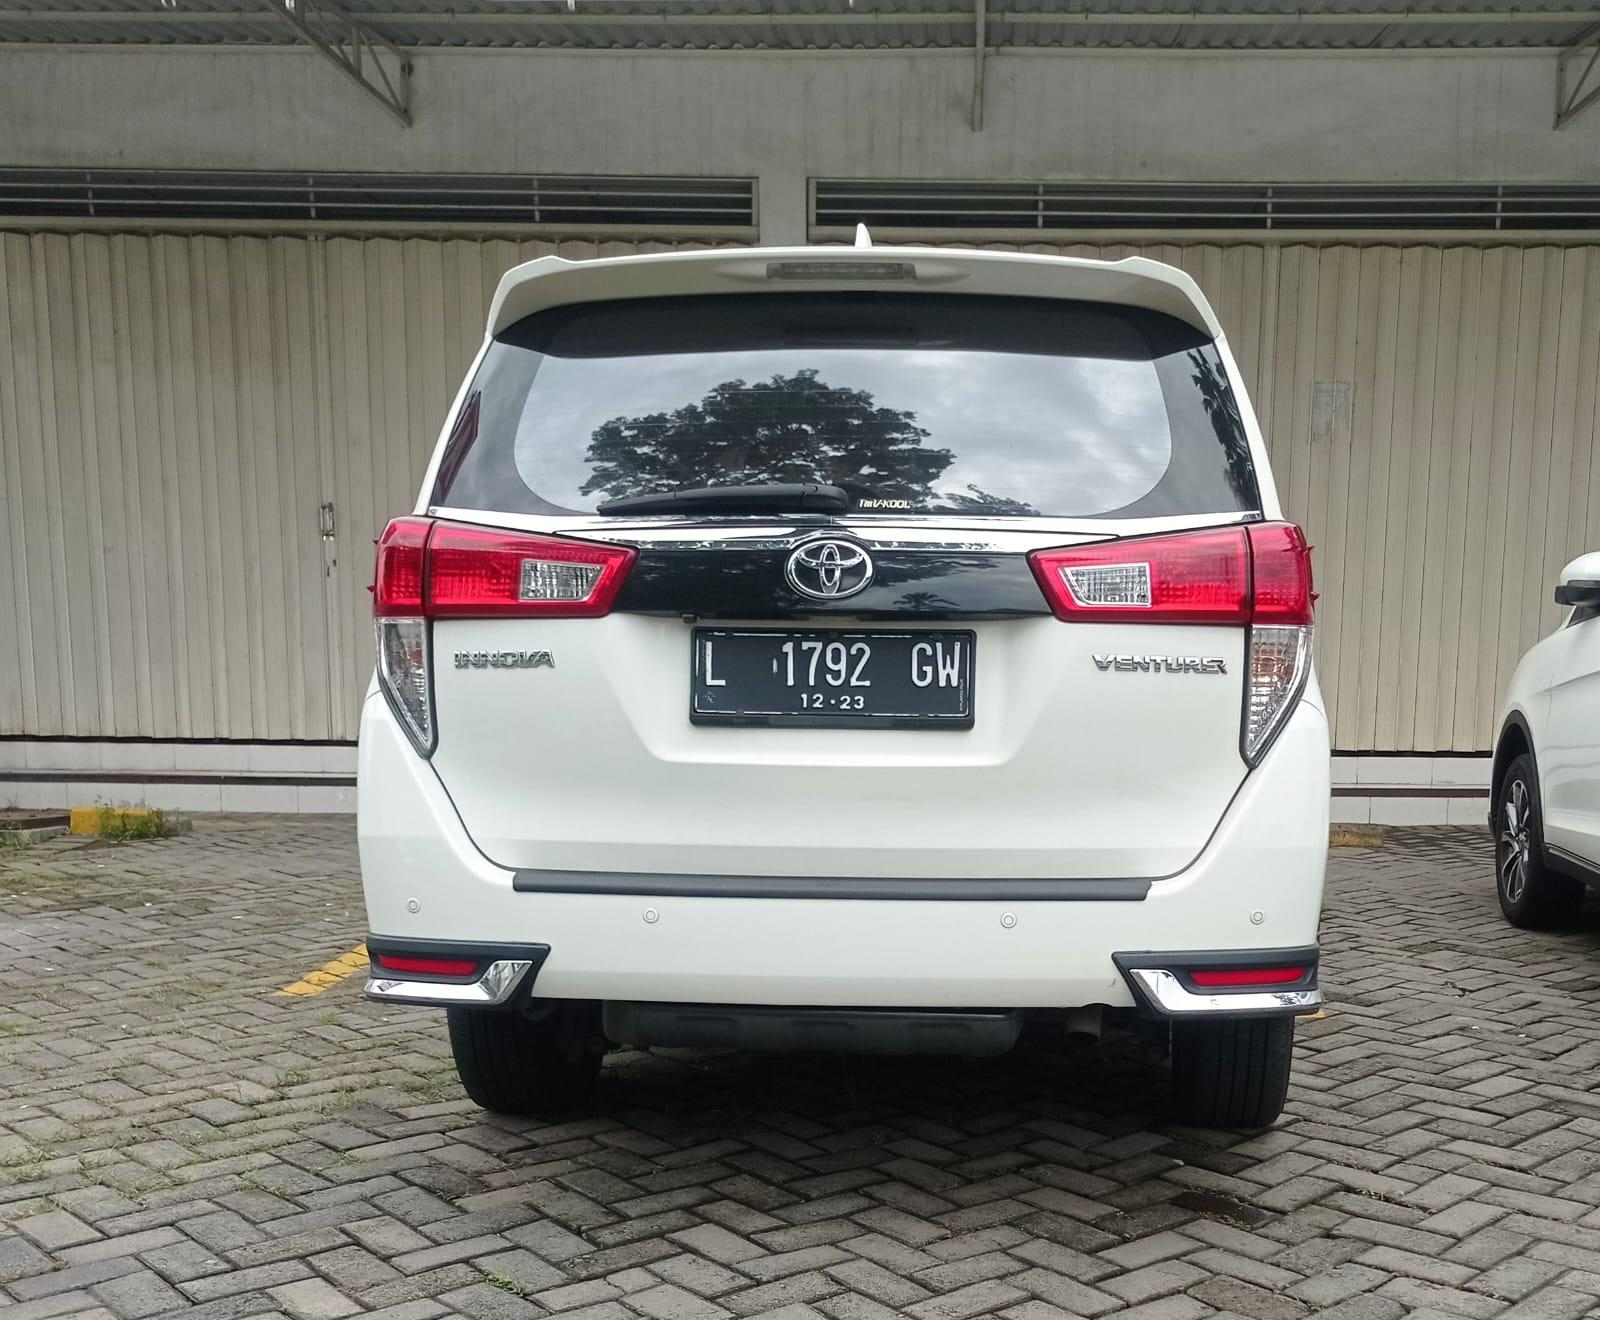plat: (691, 629, 975, 728)
